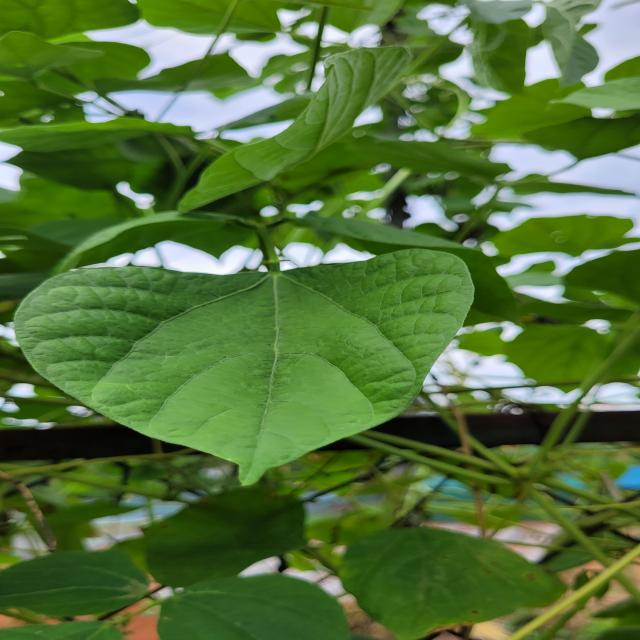Dolicos bean_healthy: (0, 248, 470, 487), (342, 526, 560, 630), (136, 573, 375, 640), (136, 484, 310, 575), (0, 551, 152, 619)
